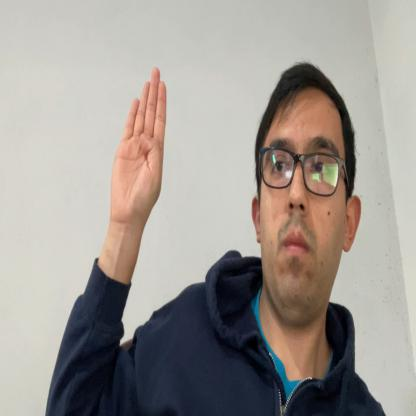B: (111, 66, 167, 224)
